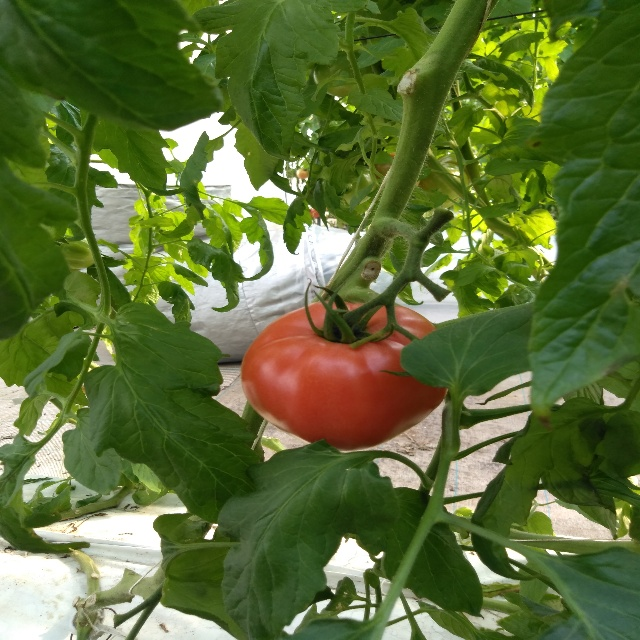b_fully_ripened: (241, 300, 451, 451)
